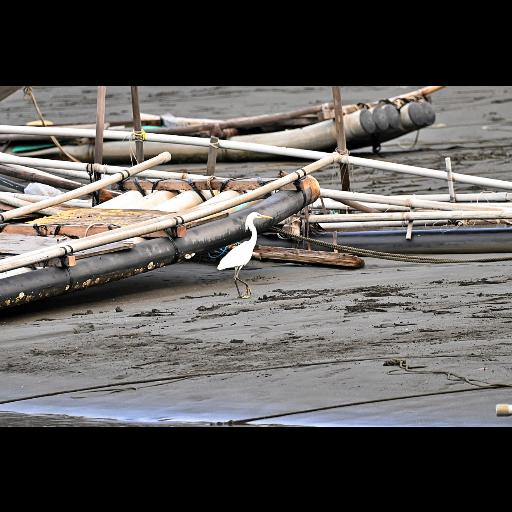chinese_egret: (216, 210, 274, 298)
